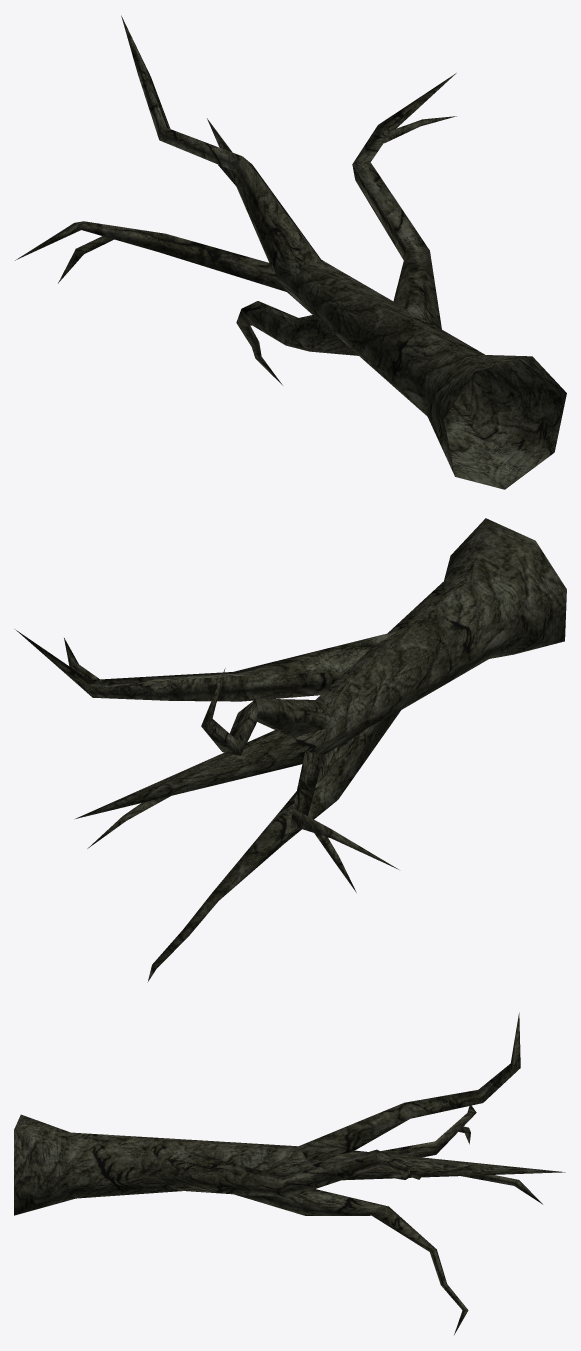
Rendered from MEP_DeadTree_03.fbx.
The picture shows the model from 3 angles, top to bottom: view 1: azimuth 30°, elevation 25°; view 2: azimuth 150°, elevation 25°; view 3: azimuth 270°, elevation 25°; orthographic projection. The views are drawn at different scales.
Parts seen in each view (by area): view 1: MEP_DeadTree_03; view 2: MEP_DeadTree_03; view 3: MEP_DeadTree_03.
Boxes of the visible parts, <box> form: MEP_DeadTree_03: <box>15,15,566,489</box>; MEP_DeadTree_03: <box>15,518,566,982</box>; MEP_DeadTree_03: <box>14,1012,565,1334</box>.
Bounding box in the file's own units: 6.83 × 5.87 × 10.48.
1 material, 1 textured.
